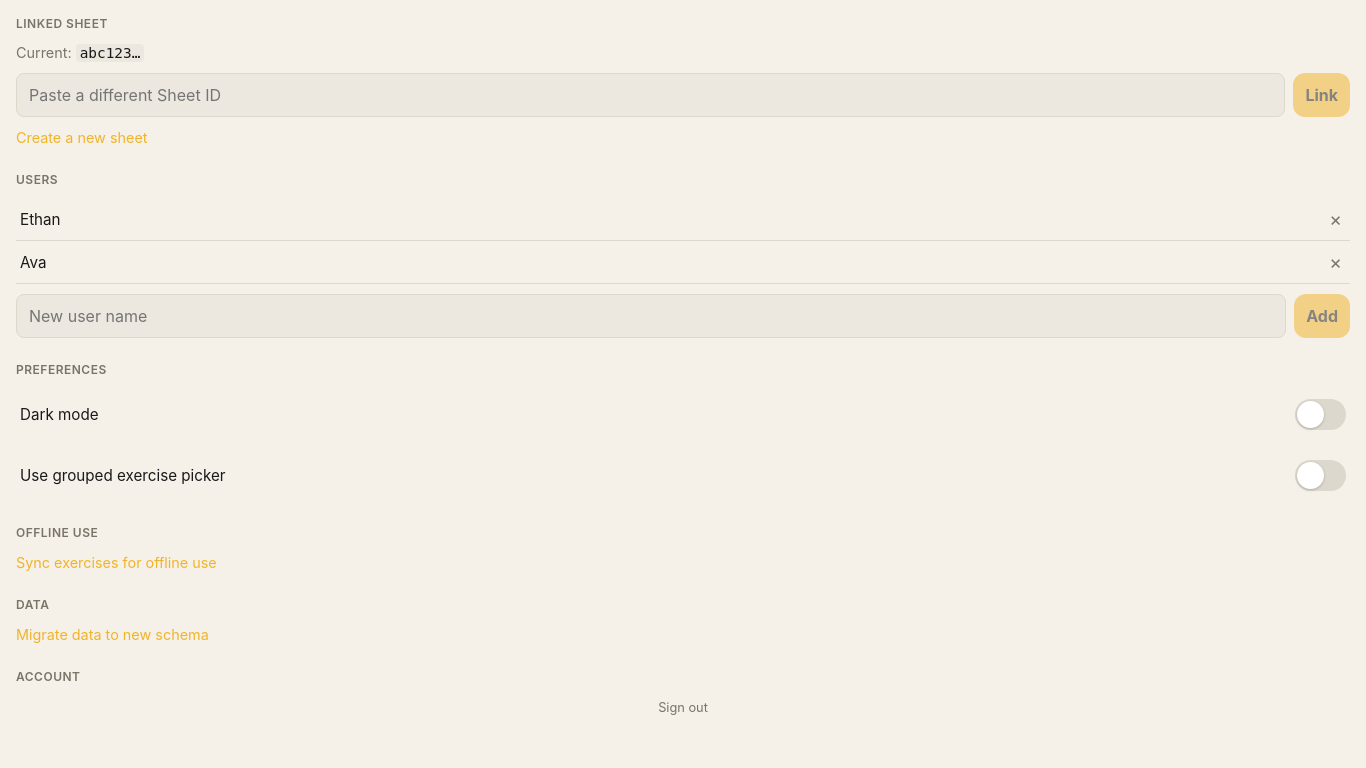
Scenario: SettingsView › shows an error message and closes the dialog when createNewSheet fails
What coordinates should you click on to do the following:
click the button "Create a new sheet"
I would click on:
 (82, 137)
Its box is 16,127 -> 1350,148.
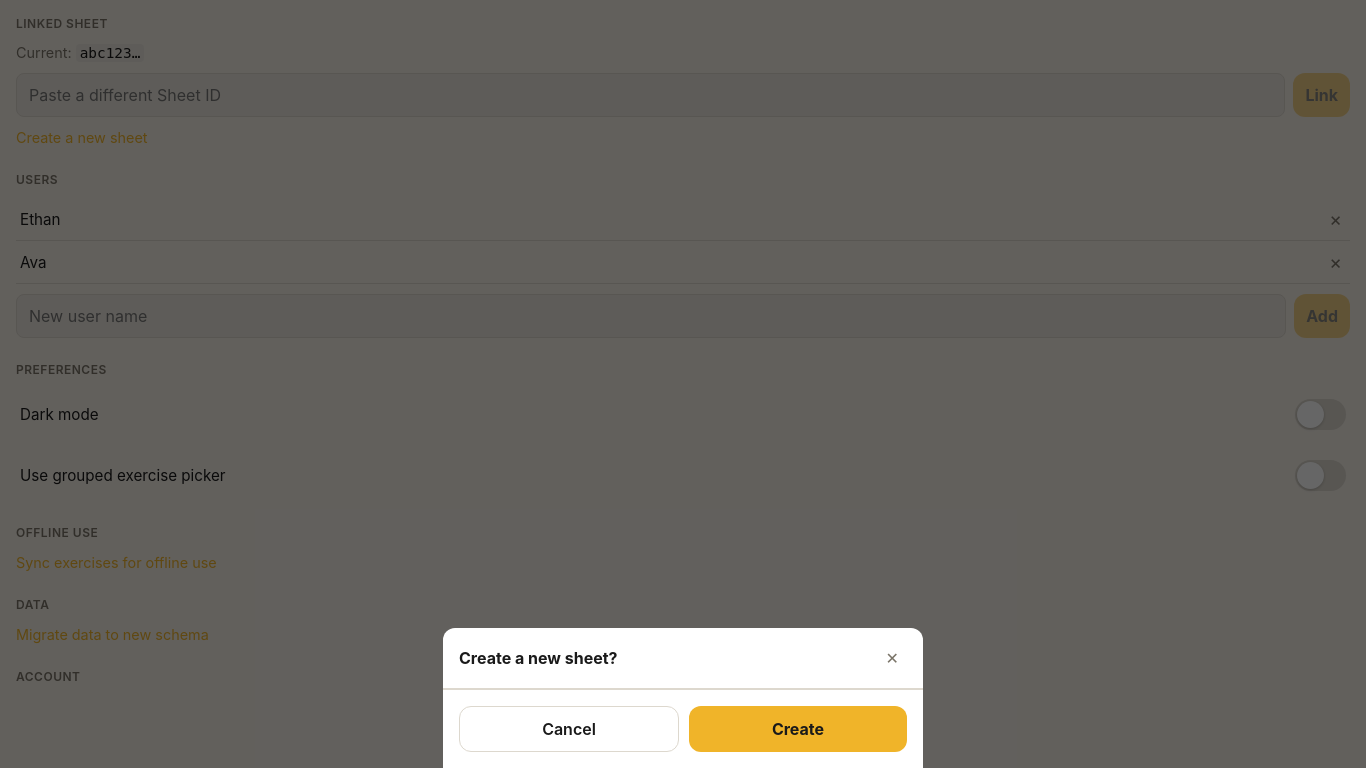
What coordinates should you click on to do the following:
click the button "Create"
I would click on:
 (798, 729)
Its box is 689,706 -> 907,752.
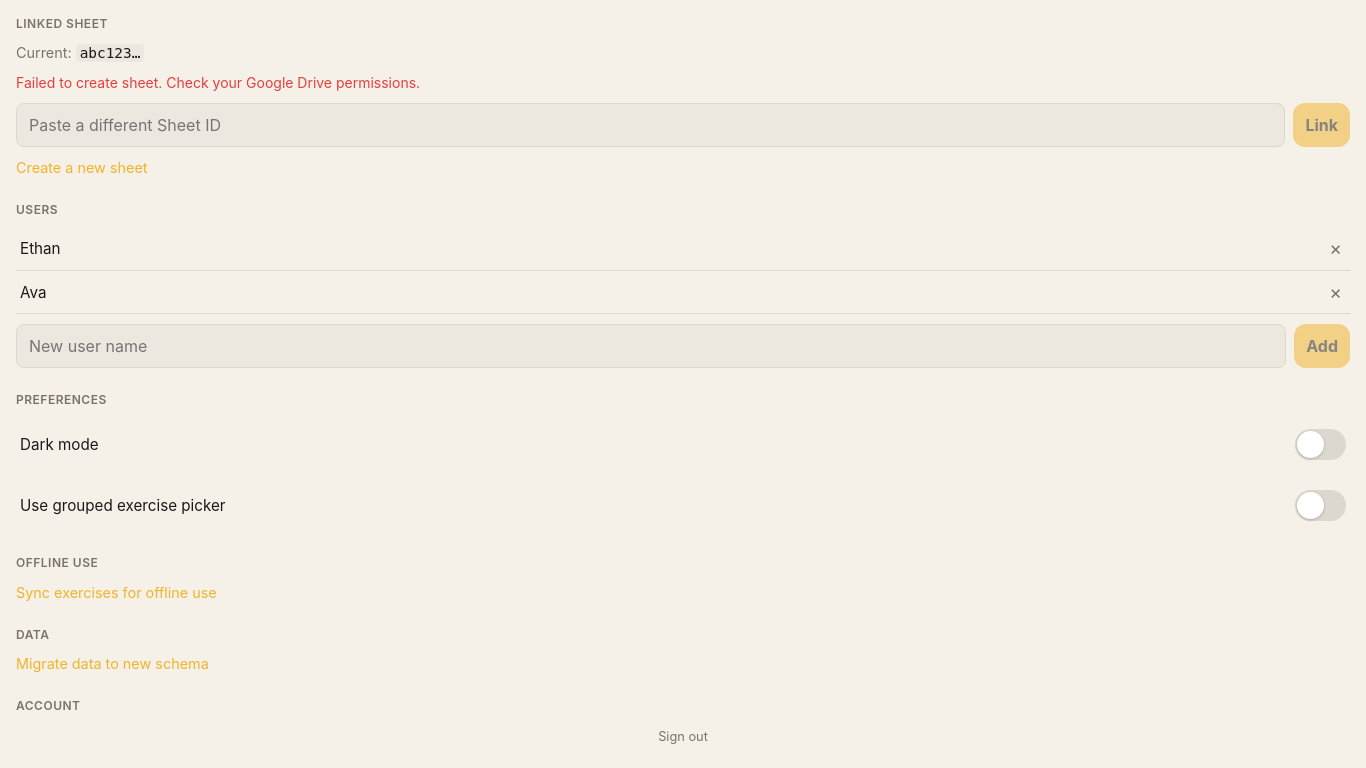
Check: the text "Create a new sheet?" is not shown
Check: the text "Failed to create sheet. Check your Google Drive permissions." is shown, box 16,74 -> 420,91
